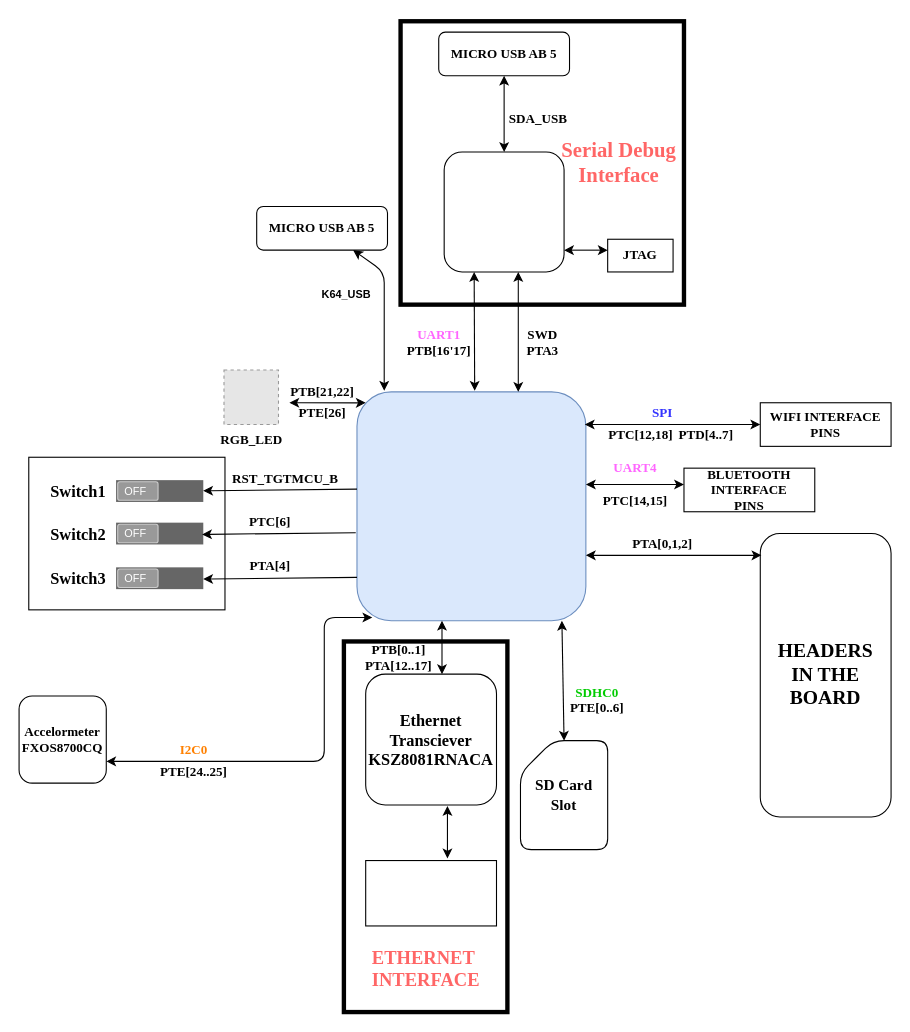
Image size: 910x1032. Some labels were removed from this diagram. Grey dashed boxes stand in for pictures. Here are the shapes that lost their labels. From the top down, the centre of each, then its label:
At (x=503, y=211): "MK20DX128VFM5".
At (x=471, y=506): "MK64FN1M0VLL12".
At (x=430, y=892): "RJ45 Female Connector RB1-125BAG1A".
